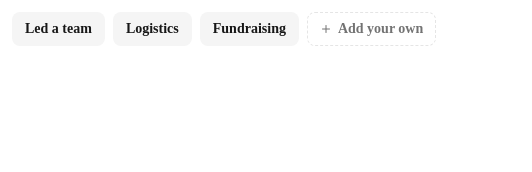
it: TagChipSelector › custom tags (allowCustom) › reveals a text input when "add your own" is clicked
Click the button "Add your own": (372, 29) [307, 12, 436, 46]
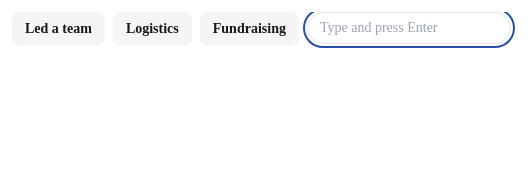
Now the field is shown, box [307, 12, 511, 44]
